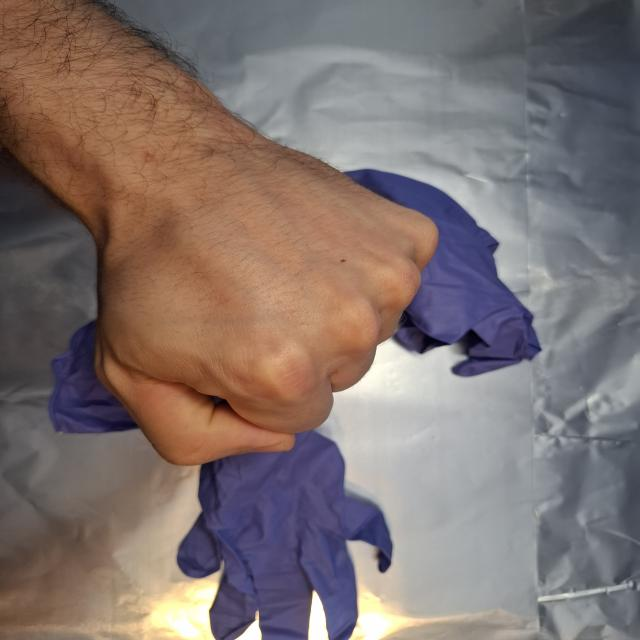glove_off: (91, 110, 442, 468)
